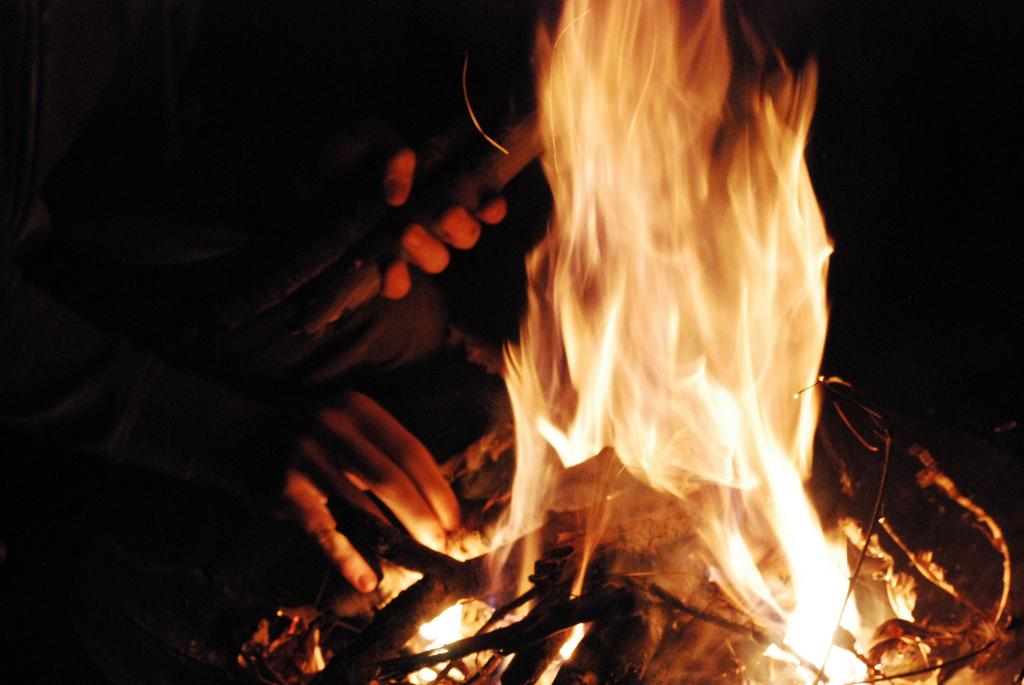fire: (563, 62, 733, 463), (772, 483, 843, 648)
